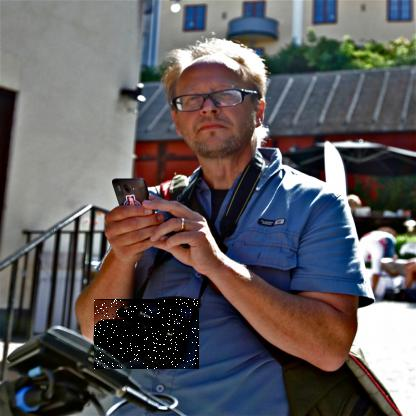Camera: (95, 300, 201, 371)
